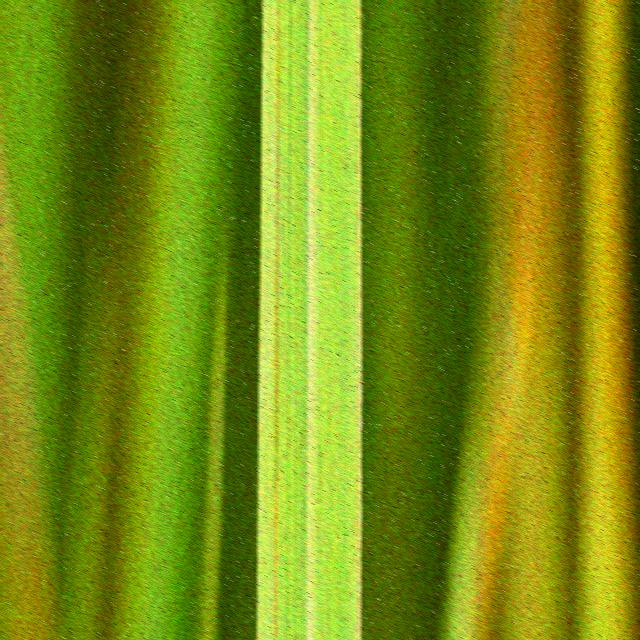BLS: (273, 0, 280, 640), (356, 188, 362, 640)
